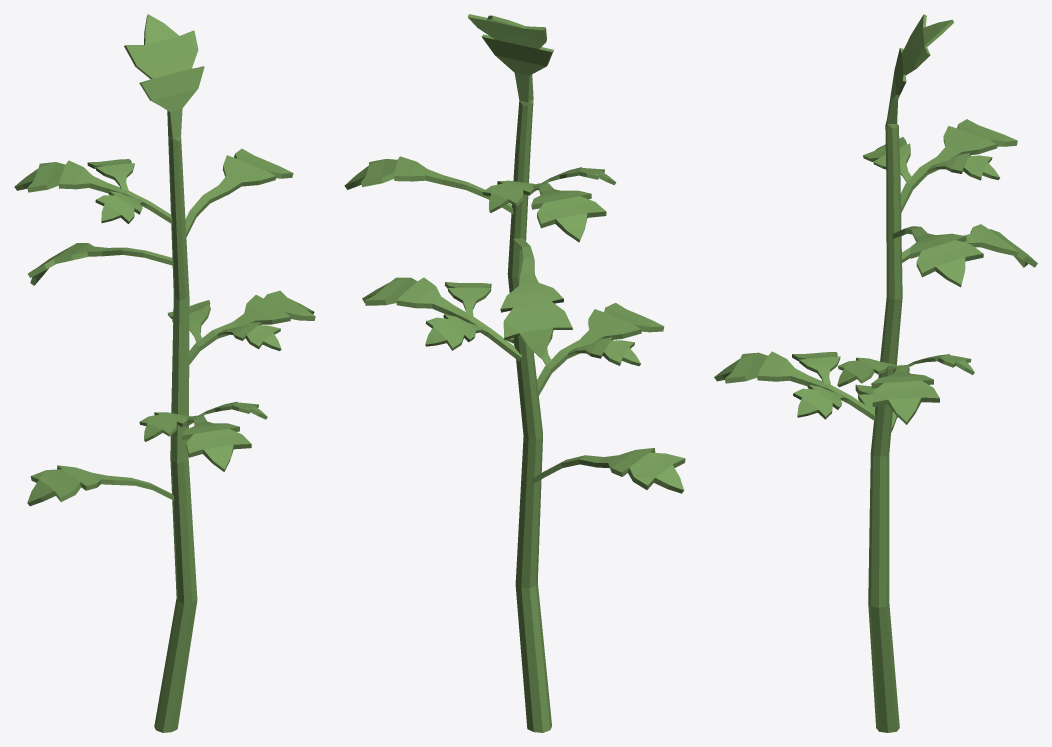
File: tomato_3.gltf
3 renders of one model, left to right at view 1: azimuth 30°, elevation 25°; view 2: azimuth 150°, elevation 25°; view 3: azimuth 270°, elevation 25°, orthographic. The views are drawn at different scales.
Visible parts, largest first — view 1: tomato_3; view 2: tomato_3; view 3: tomato_3.
Part boxes in pixels (x1=…): tomato_3: x1=14, y1=14, x2=315, y2=732; tomato_3: x1=344, y1=14, x2=685, y2=732; tomato_3: x1=714, y1=14, x2=1037, y2=732.
Size of the model in its own units: 0.6409 by 1.43 by 0.5863.
1 material, 1 textured.
